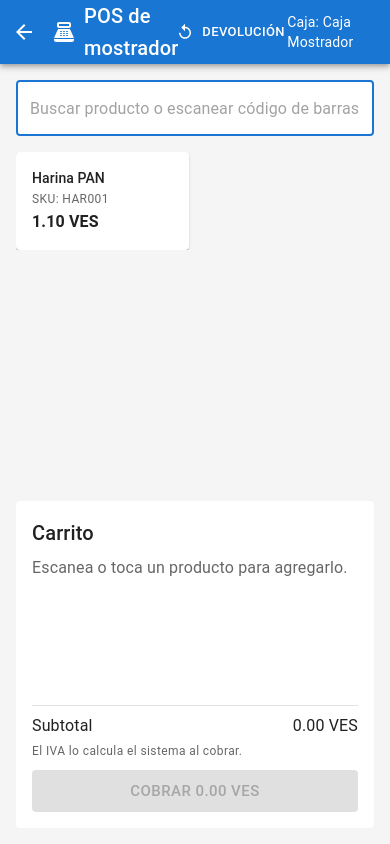
PosDevolucion › busca la venta por número y muestra las líneas con su disponible
Expected: the heading "Harina PAN" is shown, [32, 170, 105, 186]
Click the button with test id "pos-abrir-devolucion".
click(232, 32)  # box [192, 17, 271, 47]
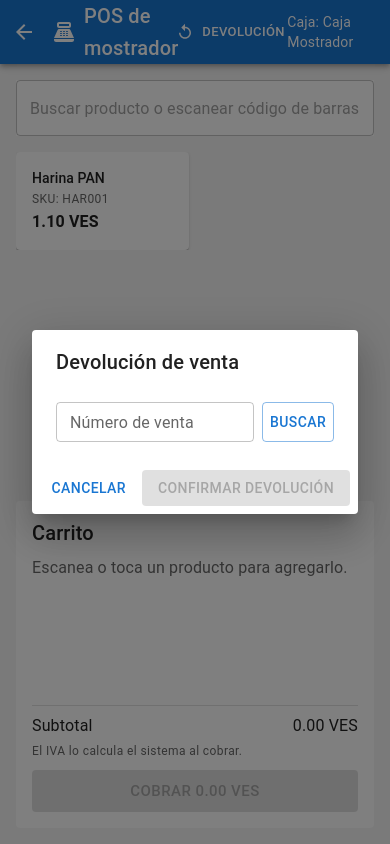
Type "NV-0001" into the field with test id "pos-dev-numero".
click(155, 422); type("NV-0001")  # box [56, 402, 254, 442]
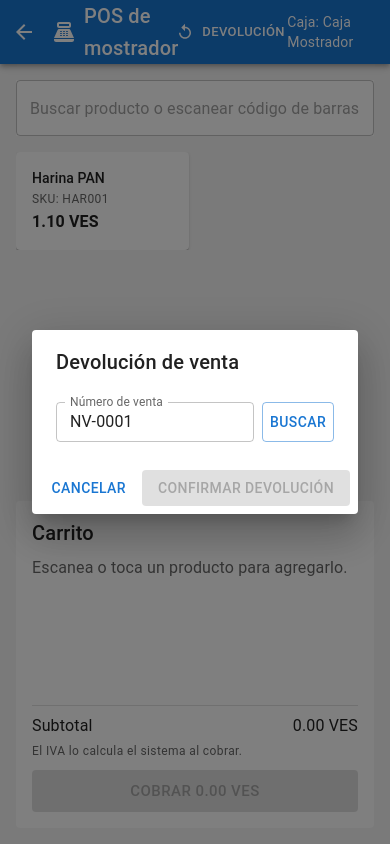
Press Enter in the field with test id "pos-dev-numero", box [56, 402, 254, 442]
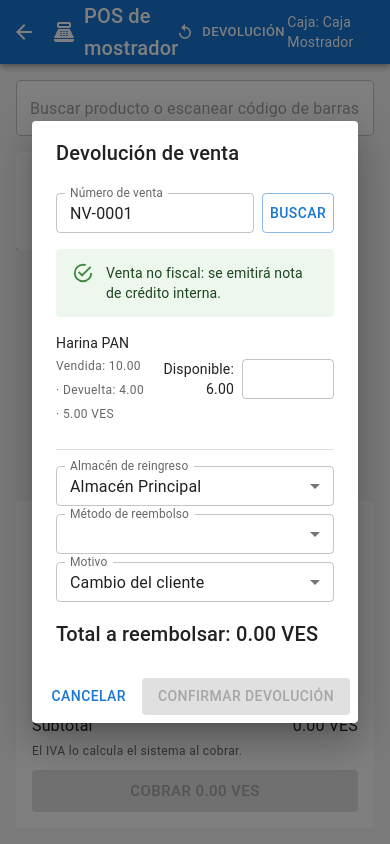
Result: the element with test id "pos-dev-lineas" is shown at [56, 333, 334, 433]
Result: the text with test id "pos-dev-disponible-det-1" shows "6.00" at [206, 381, 234, 397]
Result: the message with test id "pos-dev-tipo-venta" shows "no fiscal" at [106, 265, 303, 301]
